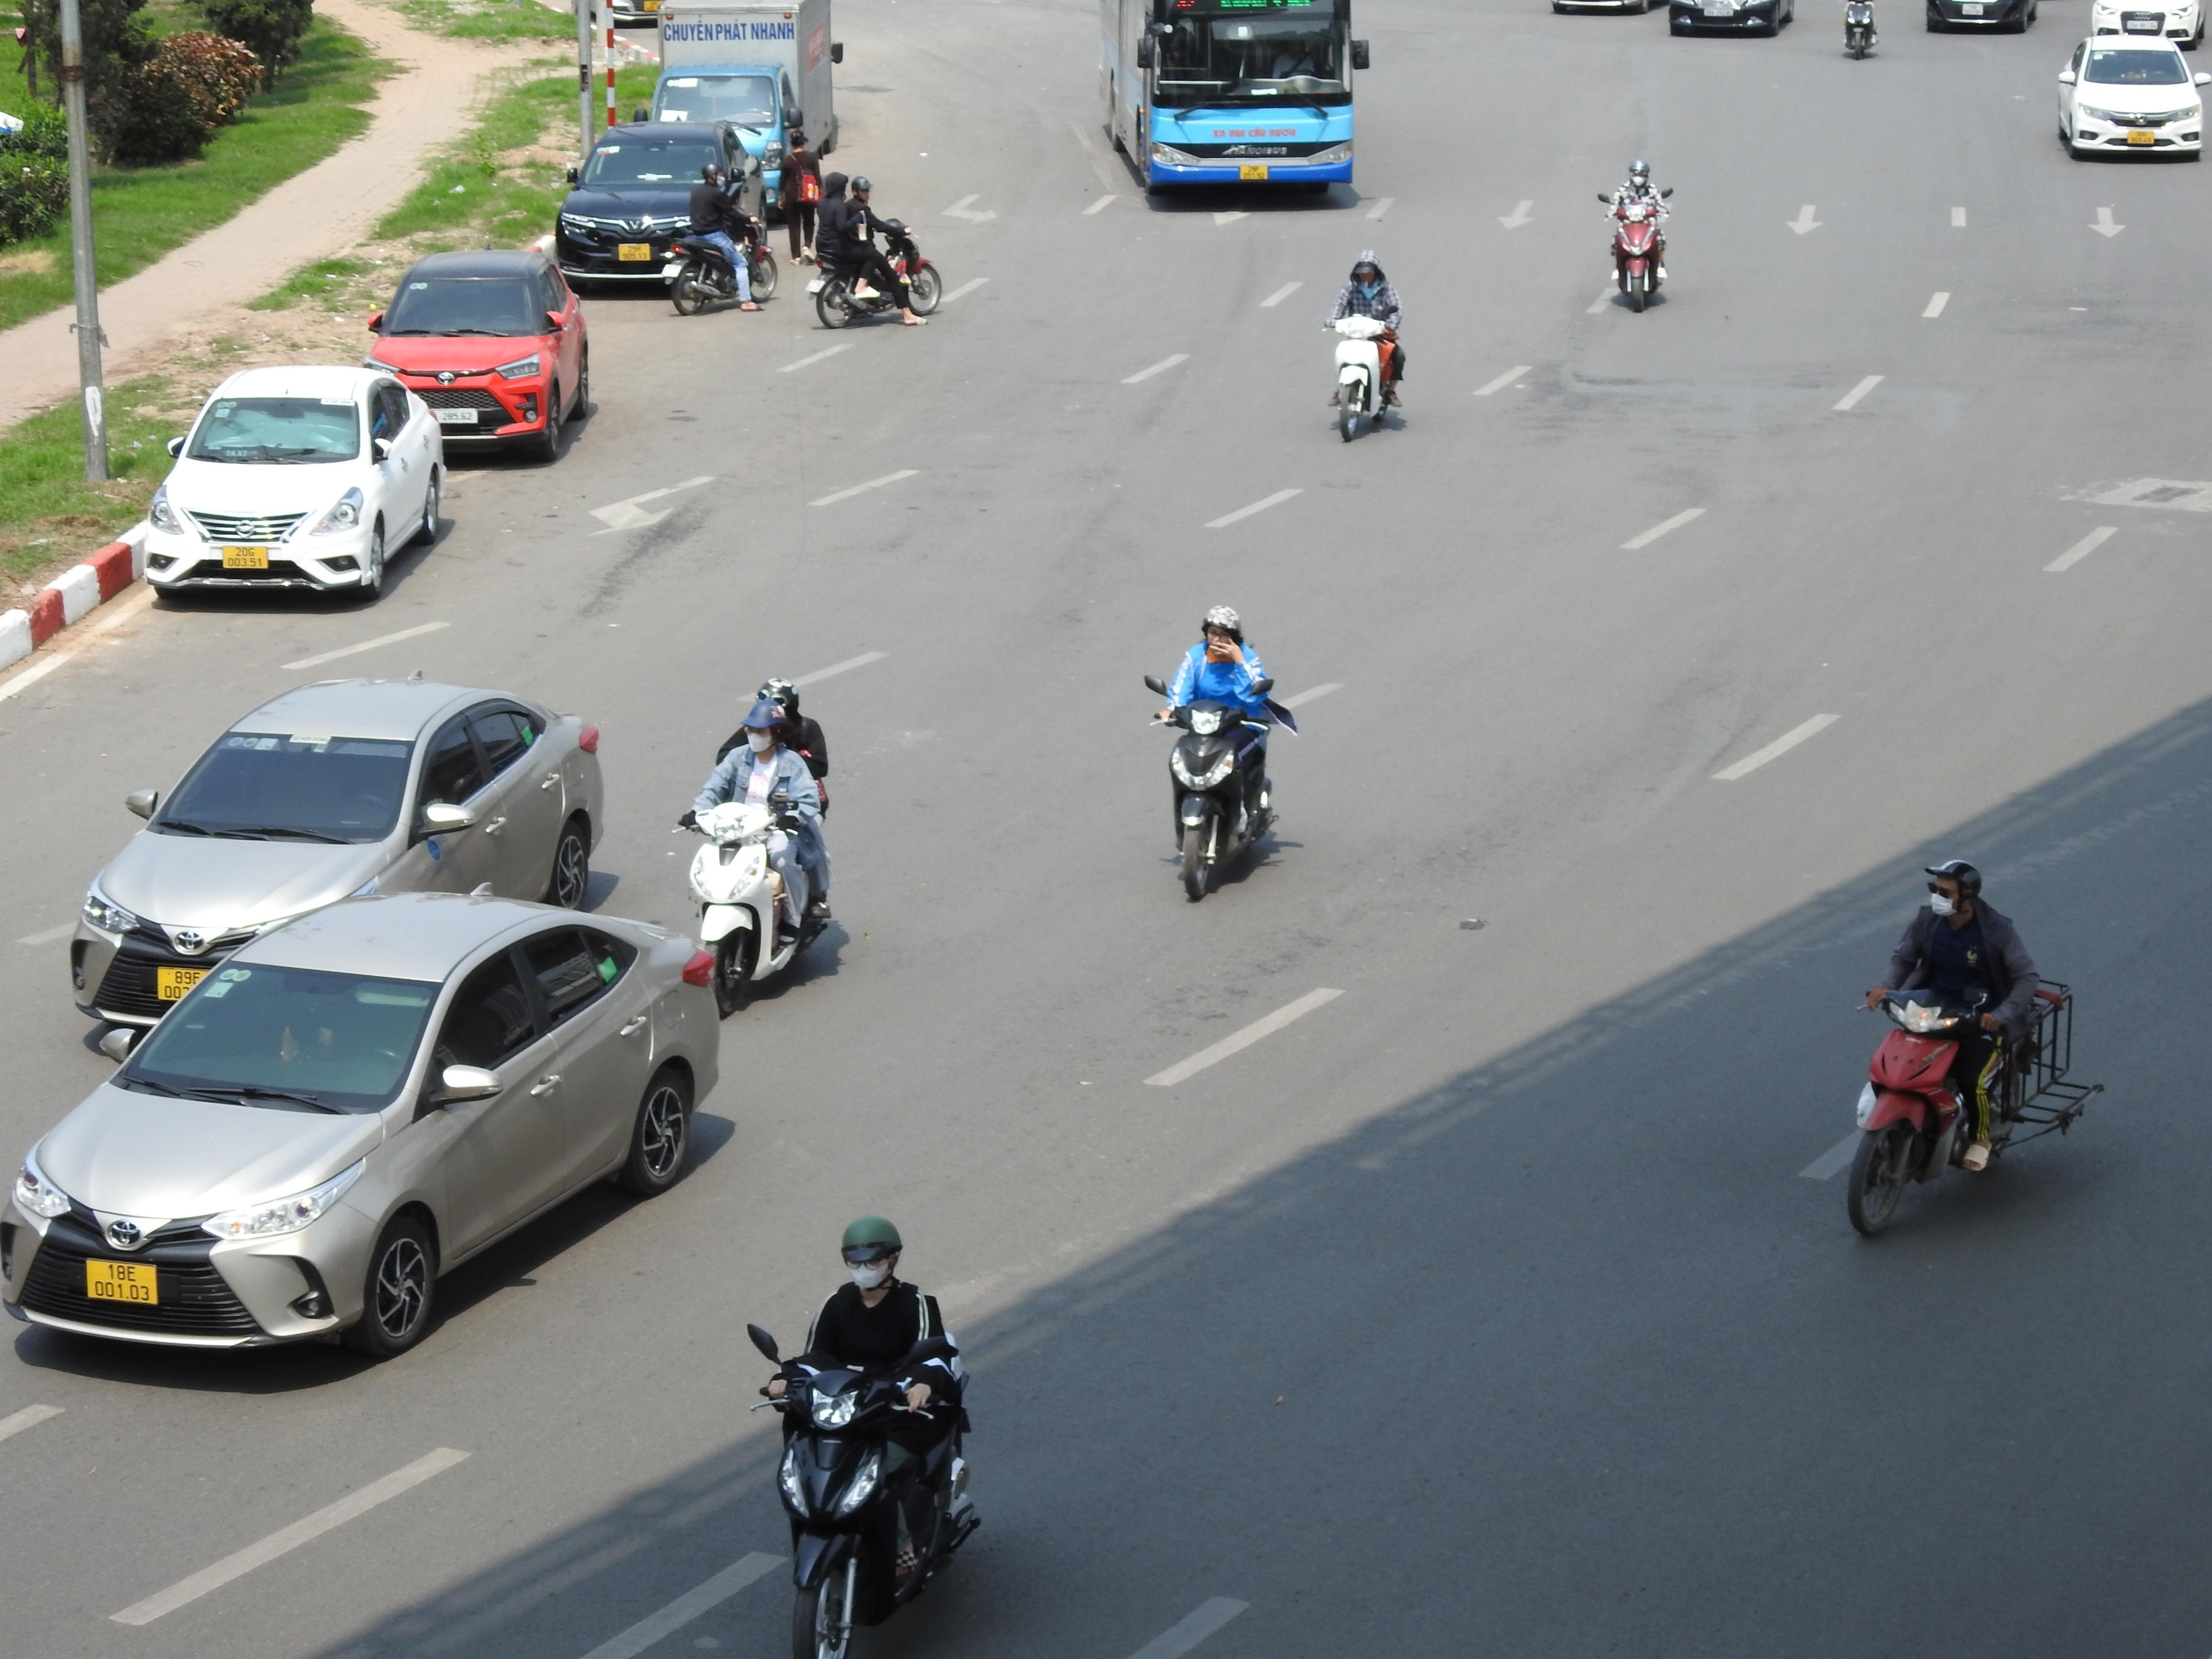BSD: (430, 410, 477, 425)
BSV: (85, 1258, 158, 1303), (157, 965, 209, 999), (221, 545, 268, 570), (618, 244, 651, 261), (1240, 164, 1268, 179)
bus: (1094, 0, 1369, 200)
car: (2, 890, 725, 1363), (68, 676, 608, 1058), (143, 362, 449, 605), (362, 249, 596, 464), (552, 118, 766, 288), (2055, 35, 2205, 162)
motorbike: (749, 1213, 982, 1659), (1846, 857, 2099, 1239), (679, 680, 838, 1021), (1148, 605, 1294, 903), (806, 174, 942, 329), (664, 167, 777, 315), (1324, 253, 1407, 444), (1602, 157, 1672, 312), (777, 127, 829, 260), (1843, 0, 1878, 58)
